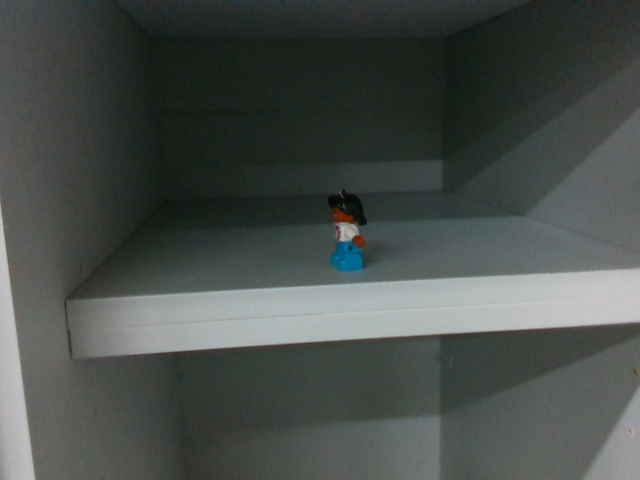people: (324, 184, 370, 276)
